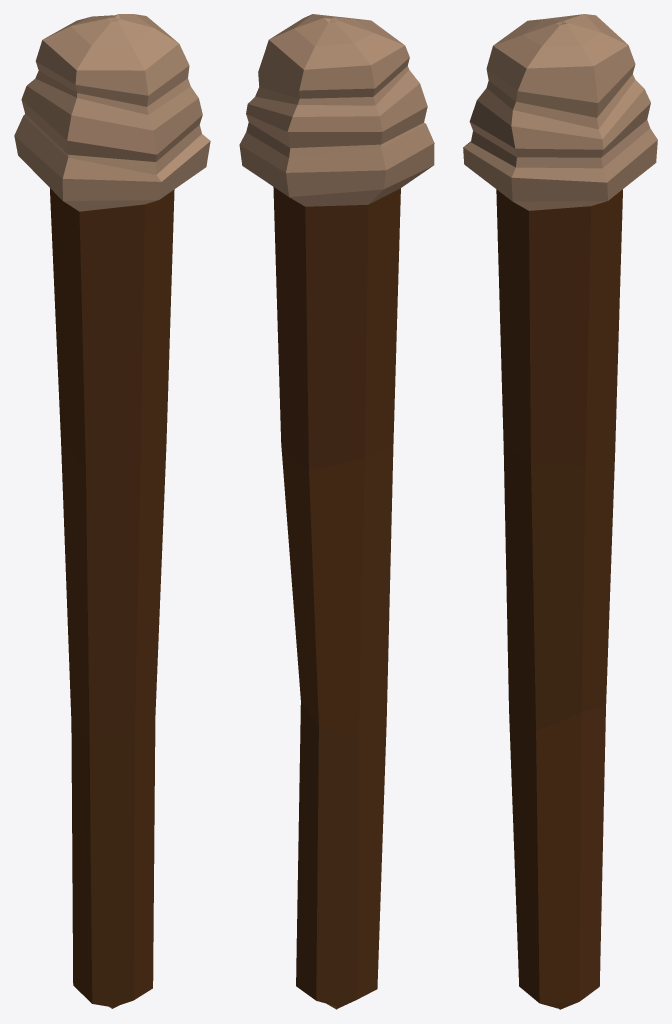
The model's file is hand-torch.glb.
3 views of the same model, side by side, from view 1: azimuth 30°, elevation 25°; view 2: azimuth 150°, elevation 25°; view 3: azimuth 270°, elevation 25° (orthographic).
Parts seen in each view (by area): view 1: Torch; view 2: Torch; view 3: Torch.
Part boxes in pixels (<box>): Torch: <box>14,14,210,1008</box>; Torch: <box>239,14,434,1009</box>; Torch: <box>463,14,657,1009</box>.
Size of the model in its own units: 0.1267 by 0.8121 by 0.1447.
